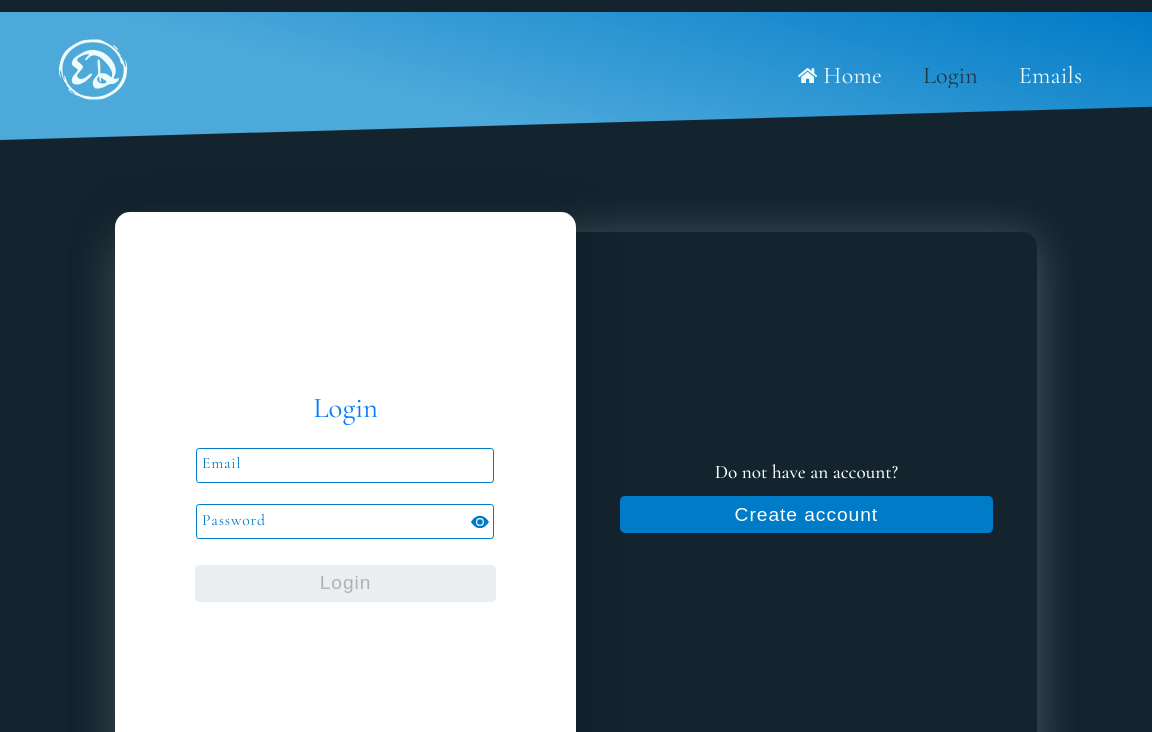
Scenario: Login user test › should throw error if wrong data is typed
Type "test@test.com" into the field with test id "login-email" at coordinates (345, 466), box 196,448 -> 494,483
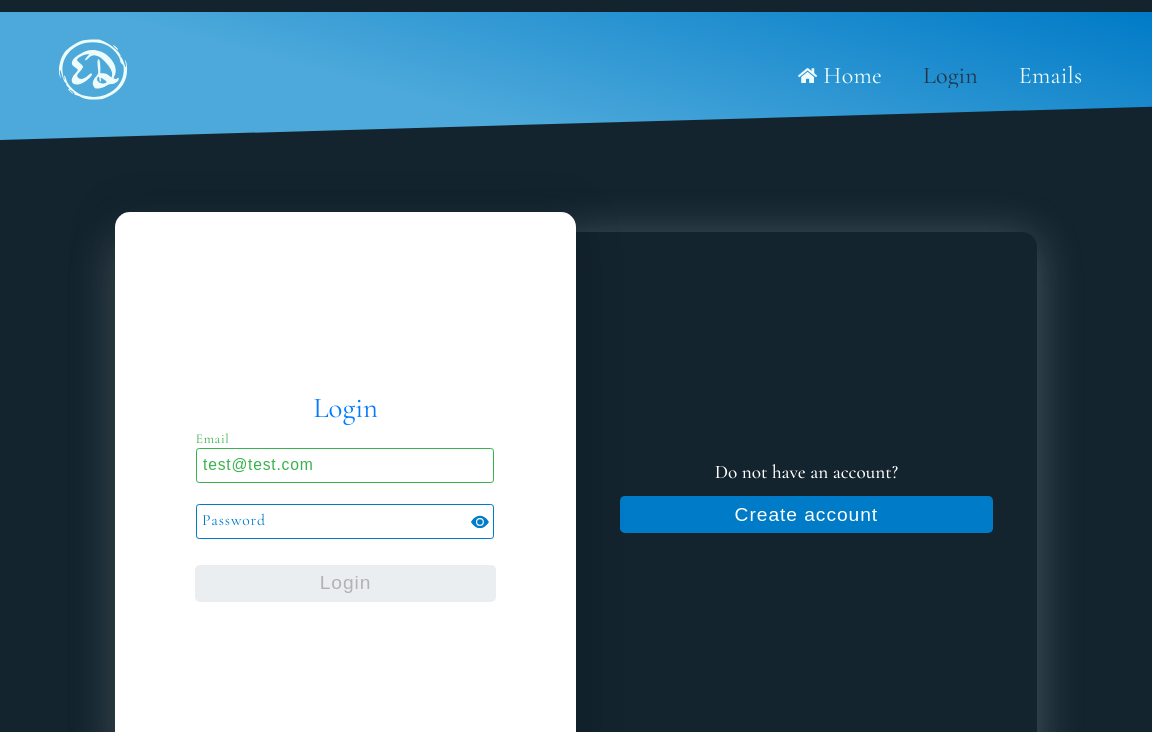
Type "test" into the password field with test id "login-password" at coordinates (345, 522), box 196,504 -> 494,539
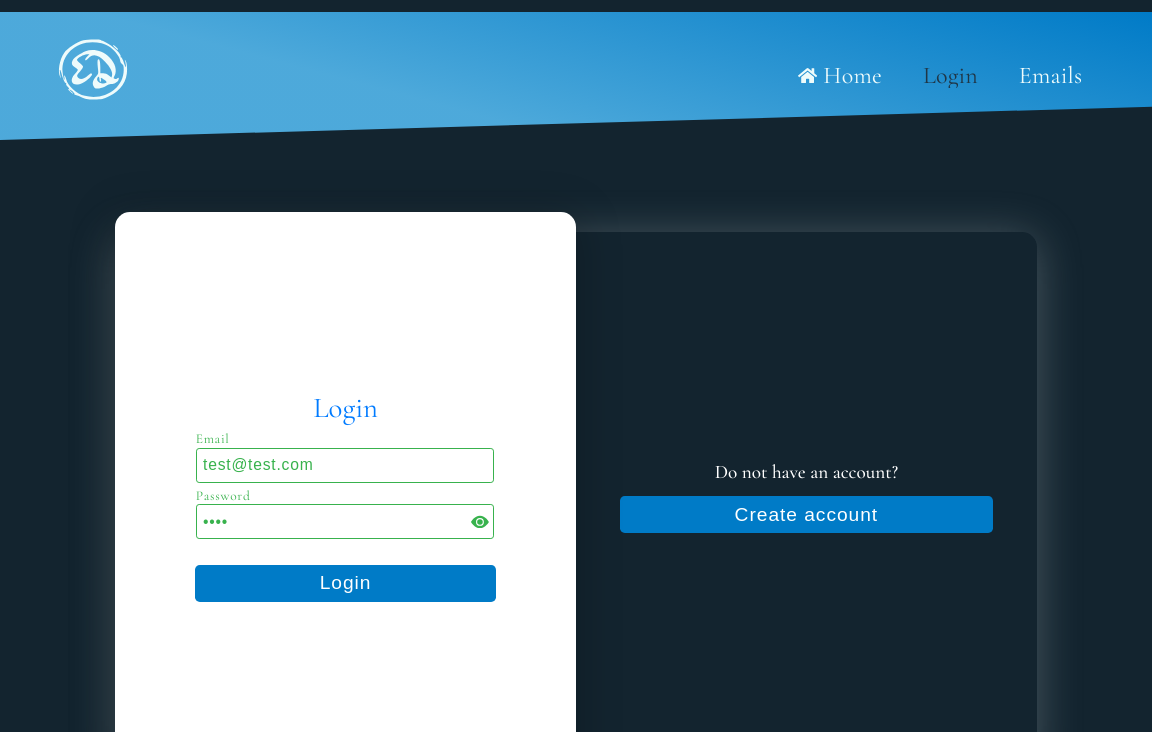
Click the button with test id "login-submit" at coordinates (346, 584), box 195,565 -> 496,602
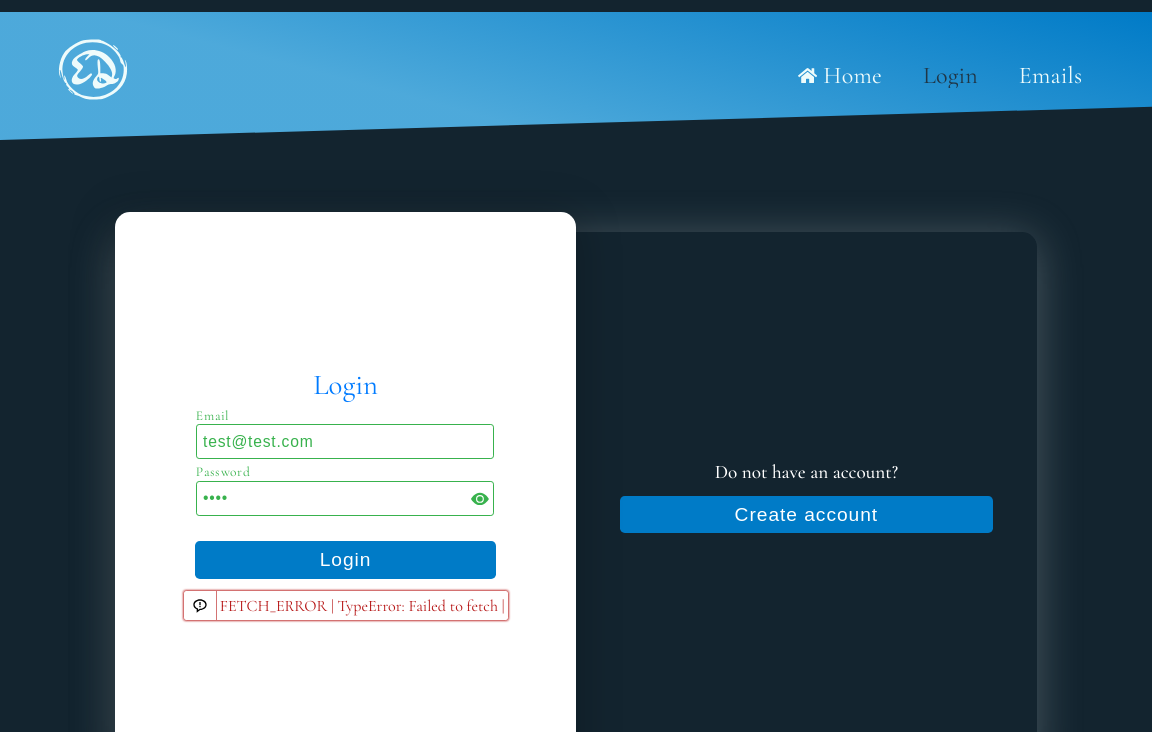
Expected: the element with test id "log-message" is shown, 183,590 -> 509,621
